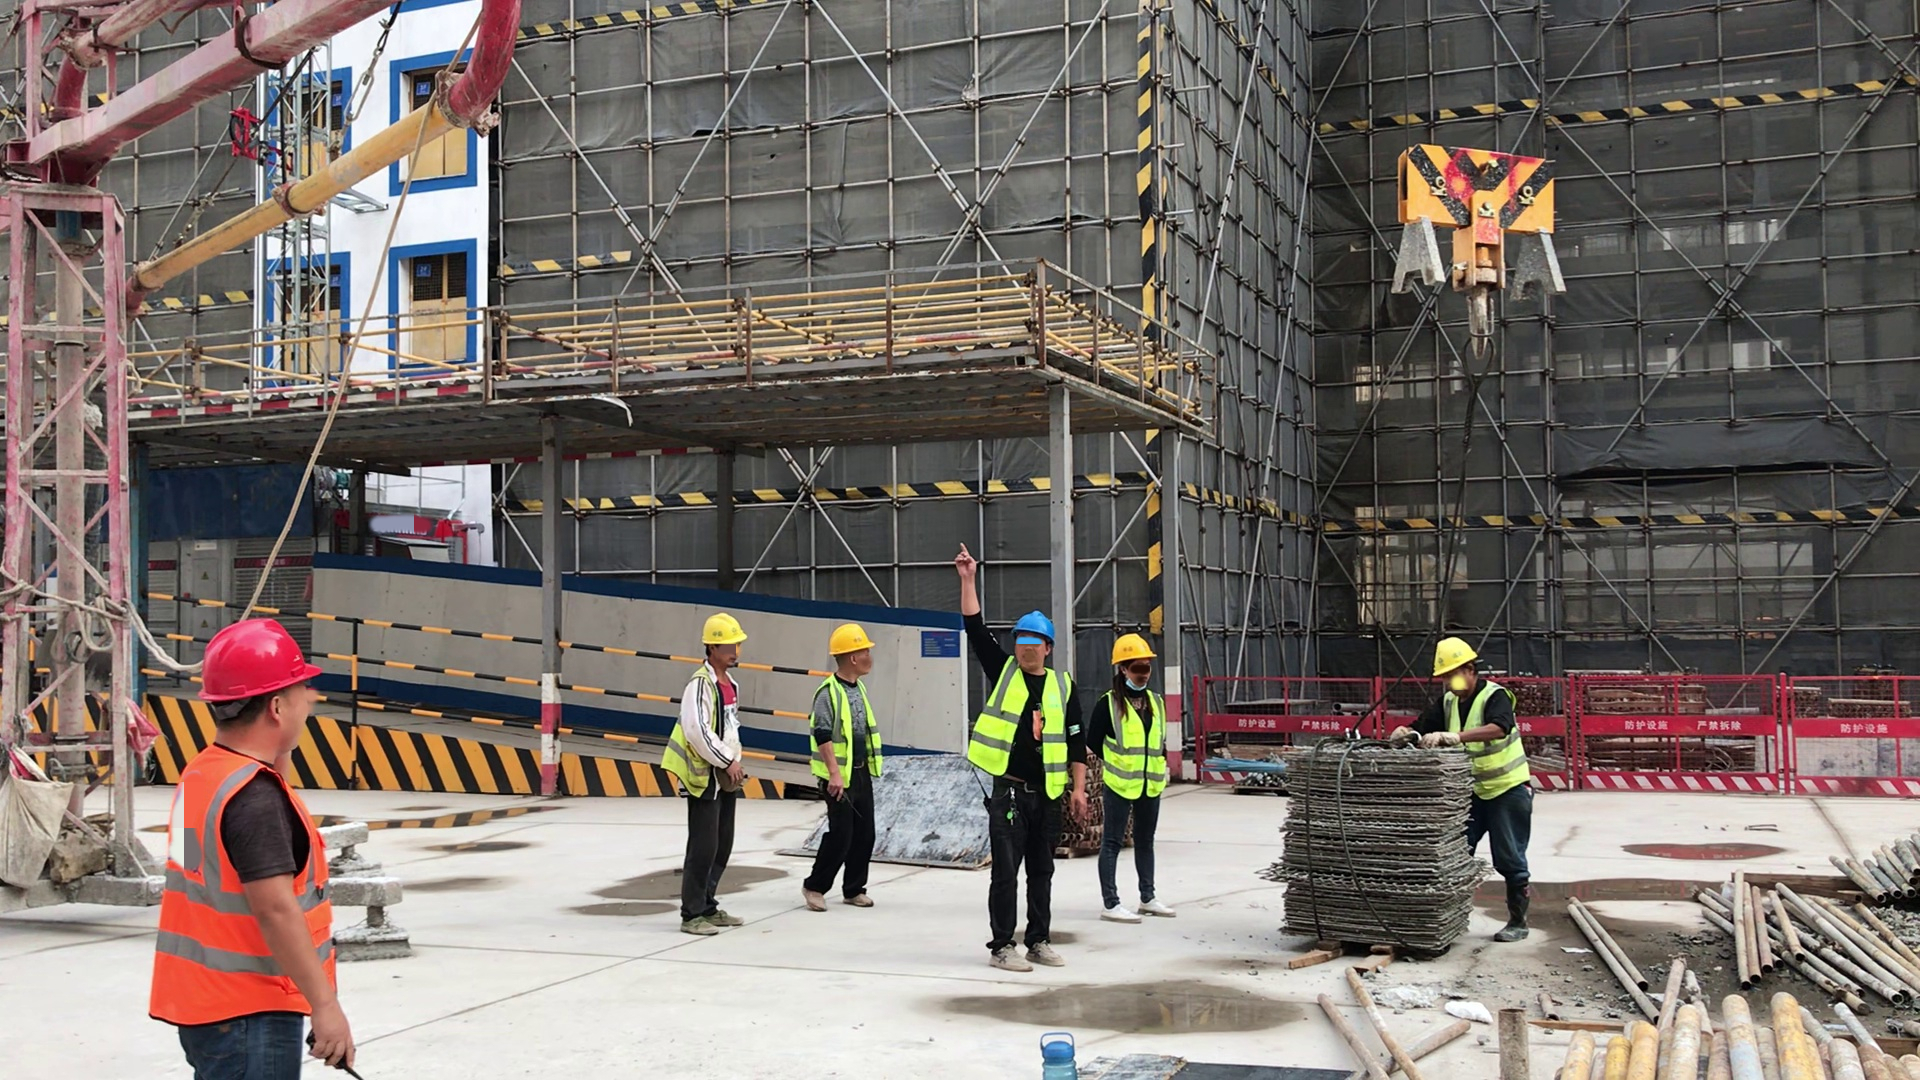helmet: (186, 615, 322, 706), (1430, 634, 1482, 678), (697, 608, 748, 645), (827, 621, 878, 655), (1107, 634, 1157, 664), (1015, 606, 1056, 643)
person: (145, 611, 390, 1080), (958, 537, 1067, 979), (1411, 626, 1559, 945), (654, 606, 765, 940), (1087, 630, 1184, 920), (796, 621, 883, 914)
vest: (144, 738, 344, 1031), (965, 649, 1074, 807), (1429, 676, 1536, 796), (653, 663, 739, 801), (809, 667, 881, 789), (1101, 683, 1168, 808)
